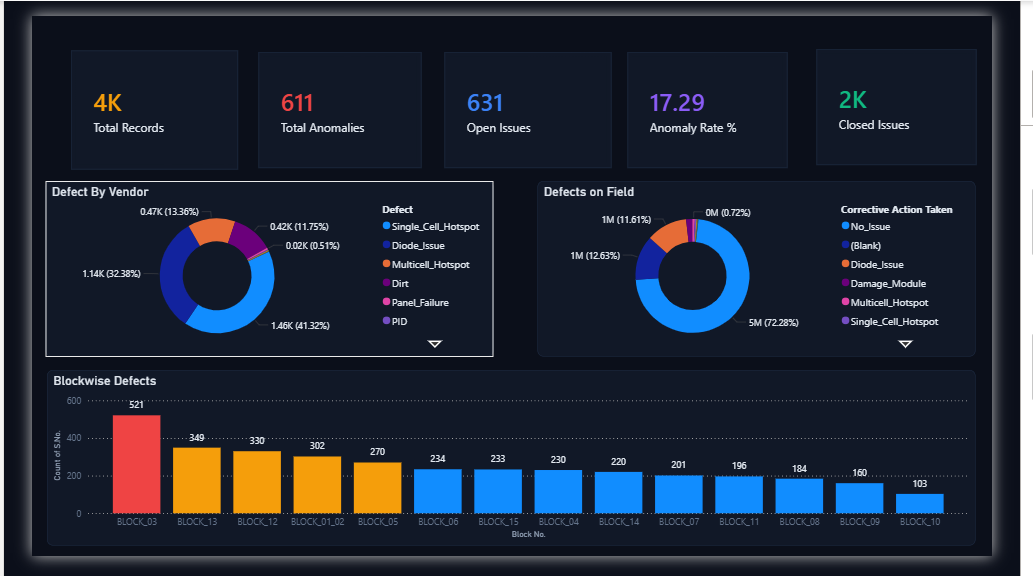

The page's visual inventory and layout, read from the dashboard file:
{"tool":"powerbi","page":{"name":"Overview","canvas":[1280,720],"ordinal":0},"visuals":[{"type":"cardVisual","fields":{"Data":["Report.Total Records"]},"box":[51,45.4,223,158.7],"z":0},{"type":"cardVisual","fields":{"Data":["Report.Closed Issues"]},"box":[1045,43.5,213.5,155],"z":1000},{"type":"cardVisual","fields":{"Data":["Report.Total Anomalies"]},"box":[302.4,47.2,217.3,155],"z":2000},{"type":"cardVisual","fields":{"Data":["Report.Anomaly Rate %"]},"box":[793.7,47.2,213.5,155],"z":3000},{"type":"cardVisual","fields":{"Data":["Report.Open Issues"]},"box":[549.9,47.2,223,155],"z":4000},{"type":"donutChart","title":"Defect By Vendor","fields":{"Category":["Report.Defect"],"Y":["CountNonNull(Report.S.No.)"]},"box":[18.9,219.2,597.2,234.3],"z":5000},{"type":"donutChart","title":"Defects on Field","fields":{"Category":["Report.Corrective Action Taken"],"Y":["Sum(Report.S.No.)"]},"box":[674.7,219.2,583.9,234.3],"z":6000},{"type":"clusteredColumnChart","title":" Blockwise Defects","fields":{"Category":["Report.Block No."],"Y":["CountNonNull(Report.S.No.)"]},"box":[20.8,472.4,1237.8,234.3],"z":7000}]}

Visuals, with their boxes in screenshot pixels (x1, y1, x2, y2), scaled from the page's 1280x720 canvas onto the 1033x576 screenshot:
cardVisual - Report.Total Records: x1=41 y1=36 x2=221 y2=163
cardVisual - Report.Closed Issues: x1=843 y1=35 x2=1016 y2=159
cardVisual - Report.Total Anomalies: x1=244 y1=38 x2=419 y2=162
cardVisual - Report.Anomaly Rate %: x1=641 y1=38 x2=813 y2=162
cardVisual - Report.Open Issues: x1=444 y1=38 x2=624 y2=162
"Defect By Vendor" donutChart: x1=15 y1=175 x2=497 y2=363
"Defects on Field" donutChart: x1=545 y1=175 x2=1016 y2=363
" Blockwise Defects" clusteredColumnChart: x1=17 y1=378 x2=1016 y2=565
